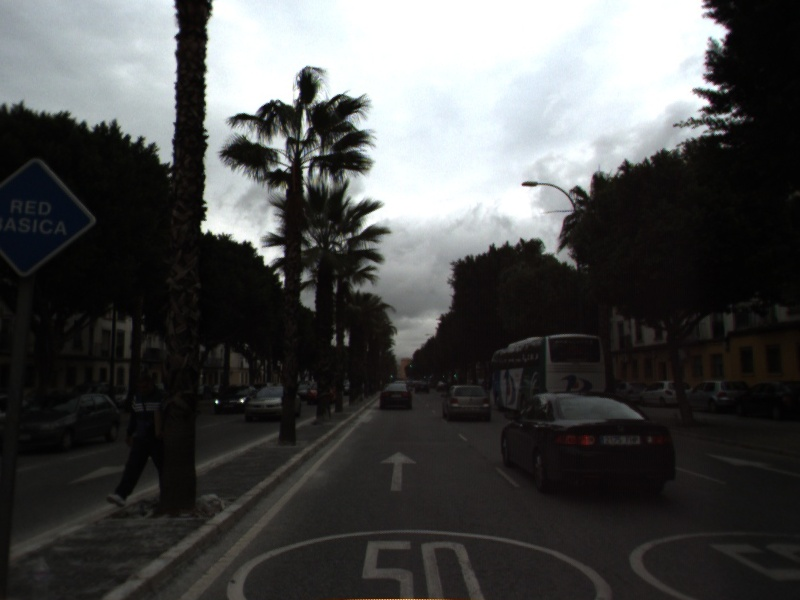STRAIGHT: (705, 451, 800, 478), (377, 449, 420, 493)
